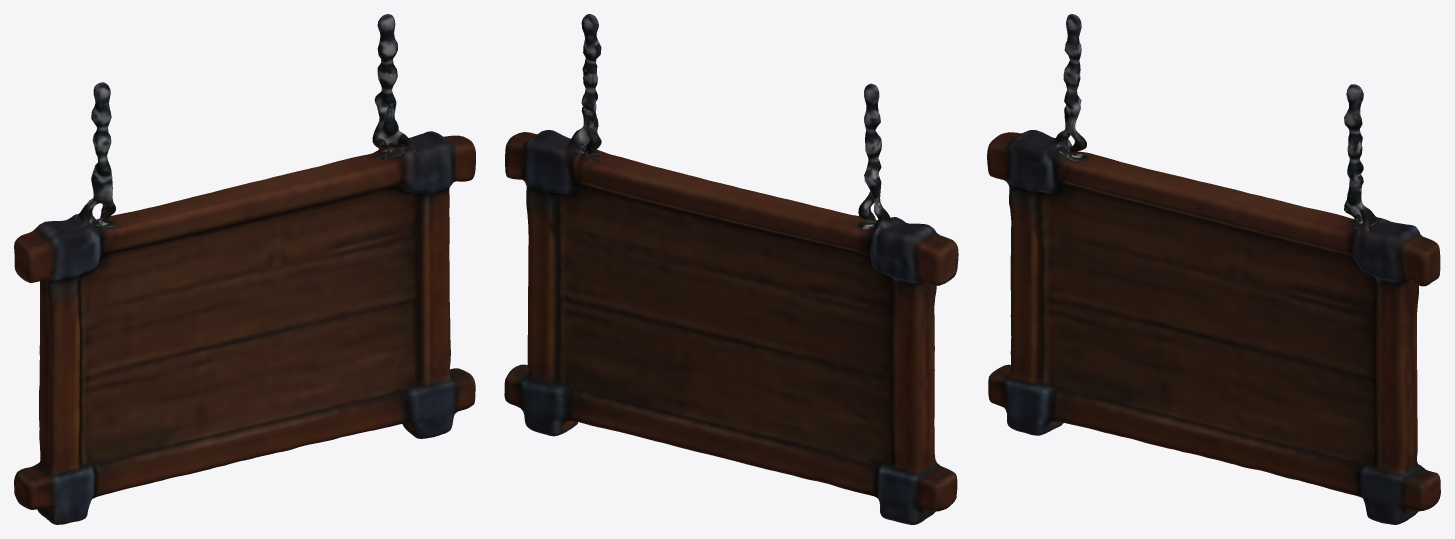
The model's file is 24e92b7e8c02_empty_wooden_sign_o.fbx.
3 renders of one model, left to right at view 1: azimuth 30°, elevation 25°; view 2: azimuth 150°, elevation 25°; view 3: azimuth 330°, elevation 25°, orthographic.
Parts seen in each view (by area): view 1: mesh; view 2: mesh; view 3: mesh.
Part boxes in pixels (x1=…): mesh: x1=14, y1=14, x2=475, y2=524; mesh: x1=504, y1=14, x2=958, y2=524; mesh: x1=987, y1=14, x2=1440, y2=524.
Size of the model in its own units: 99.94 by 91.06 by 9.72.
